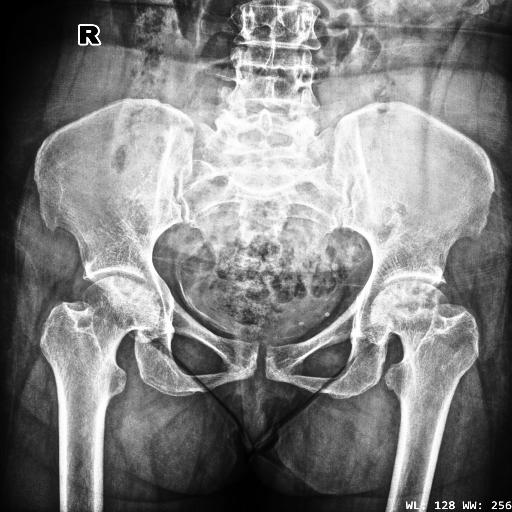normal: (40, 276, 160, 453), (371, 279, 479, 468)
